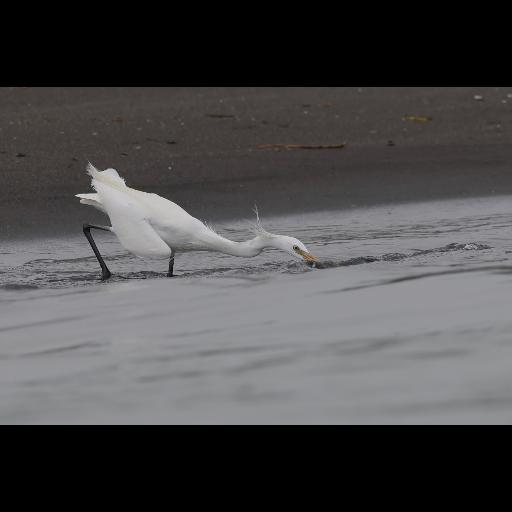chinese_egret: (73, 160, 323, 280)
